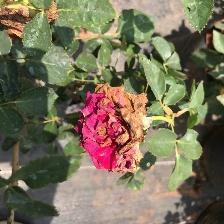rose: (76, 83, 149, 176)
